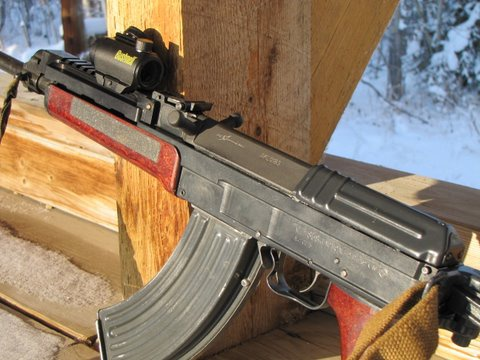ak47: (3, 27, 479, 360)
